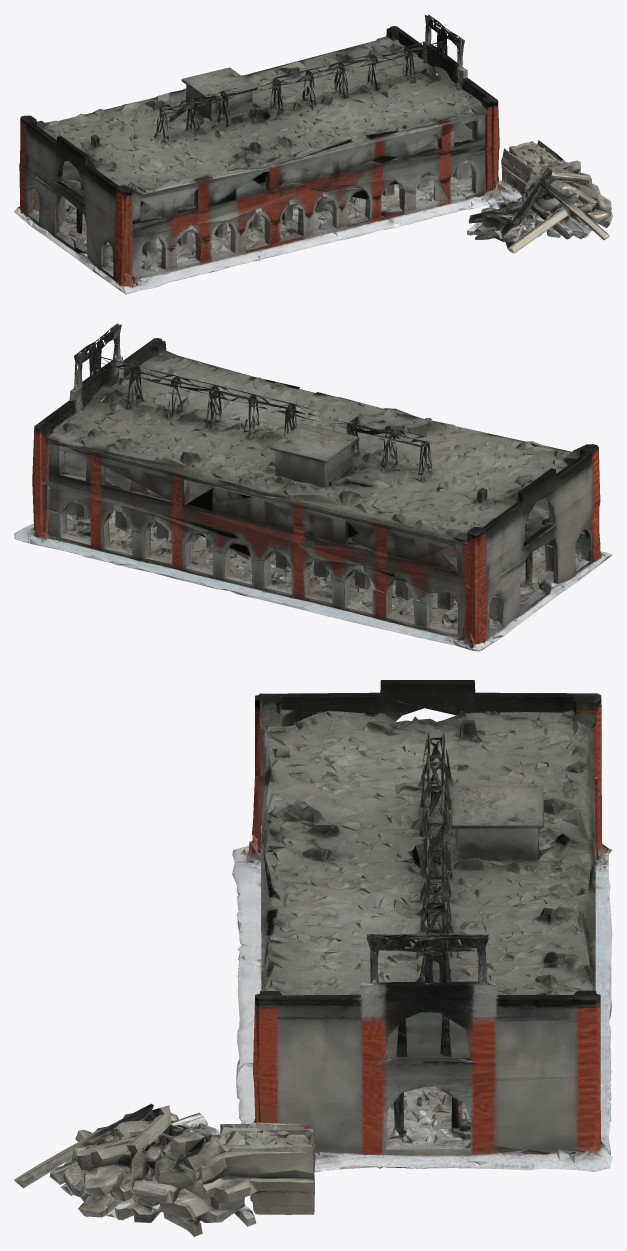
The model's file is ash-ruin-arcade.glb.
3 views of the same model, one above another, from view 1: azimuth 30°, elevation 25°; view 2: azimuth 150°, elevation 25°; view 3: azimuth 270°, elevation 25° (orthographic). The views are drawn at different scales.
Bounding box in the file's own units: 1.9 × 0.5653 × 1.29.
1 material, 1 textured.
